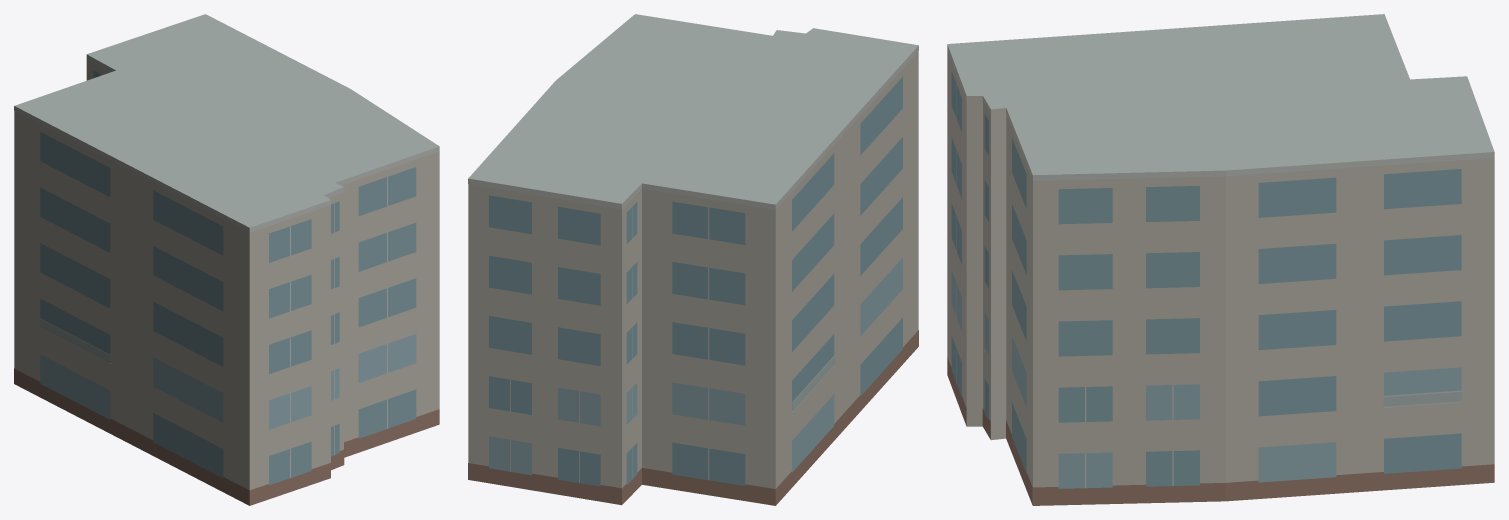
The model's file is survey-upis-32931172.glb.
3 views of the same model, side by side, from view 1: azimuth 30°, elevation 25°; view 2: azimuth 150°, elevation 25°; view 3: azimuth 270°, elevation 25° (orthographic). The views are drawn at different scales.
Parts seen in each view (by area): view 1: survey-upis-32931172.tmp; view 2: survey-upis-32931172.tmp; view 3: survey-upis-32931172.tmp.
Boxes of the visible parts, <box> form: survey-upis-32931172.tmp: <box>14,14,439,505</box>; survey-upis-32931172.tmp: <box>468,14,918,505</box>; survey-upis-32931172.tmp: <box>947,14,1494,505</box>.
Bounding box in the file's own units: 14.32 × 13.7 × 20.55.
